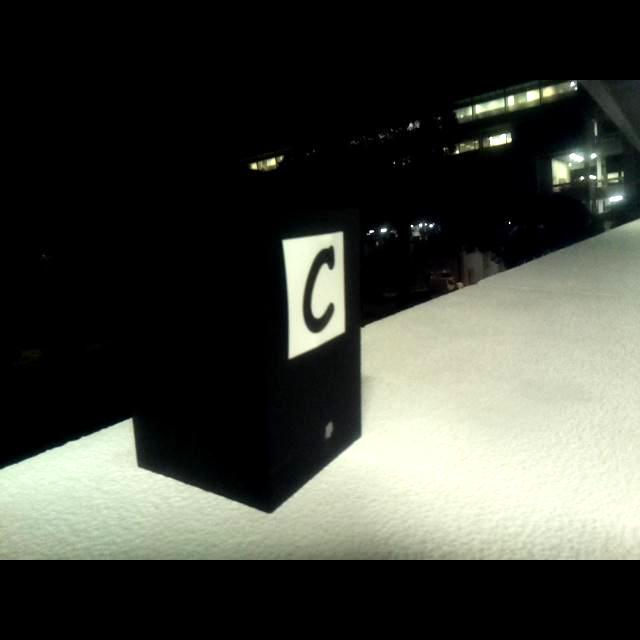C: (303, 246, 335, 334)
